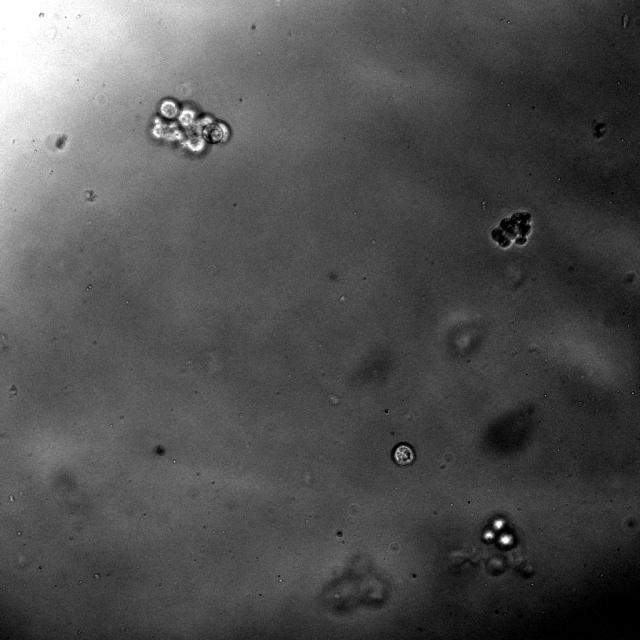organoid: (449, 513, 535, 579), (148, 97, 230, 155), (319, 555, 391, 616), (491, 211, 531, 249), (391, 443, 416, 465)
